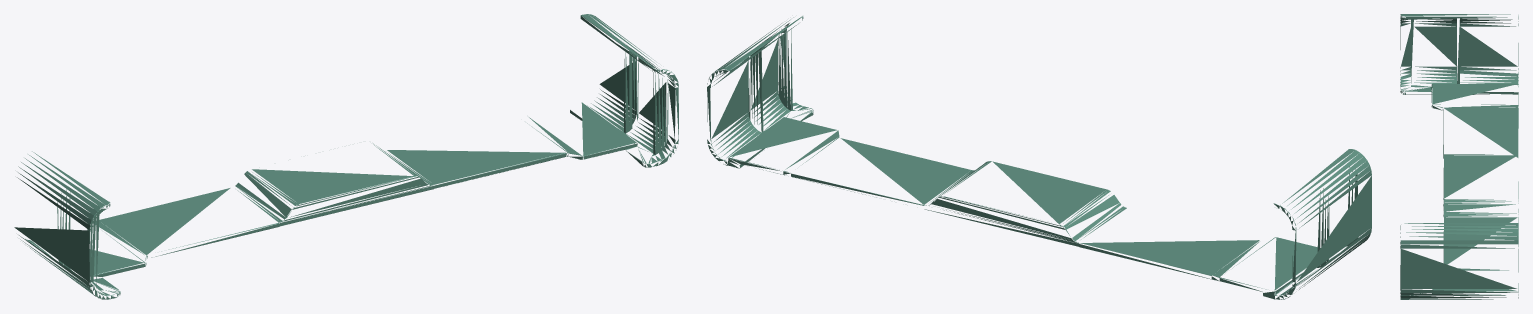
File: ramp_long_a01.glb
The picture shows the model from 3 angles, left to right: view 1: azimuth 30°, elevation 25°; view 2: azimuth 150°, elevation 25°; view 3: azimuth 270°, elevation 25°; orthographic projection. The views are drawn at different scales.
Parts seen in each view (by area): view 1: geometry_0; view 2: geometry_0; view 3: geometry_0.
Boxes of the visible parts, x1=… form: geometry_0: x1=14, y1=14, x2=678, y2=299; geometry_0: x1=707, y1=16, x2=1371, y2=299; geometry_0: x1=1400, y1=14, x2=1518, y2=299.
Size of the model in its own units: 0.48 by 0.0746 by 0.1073.
